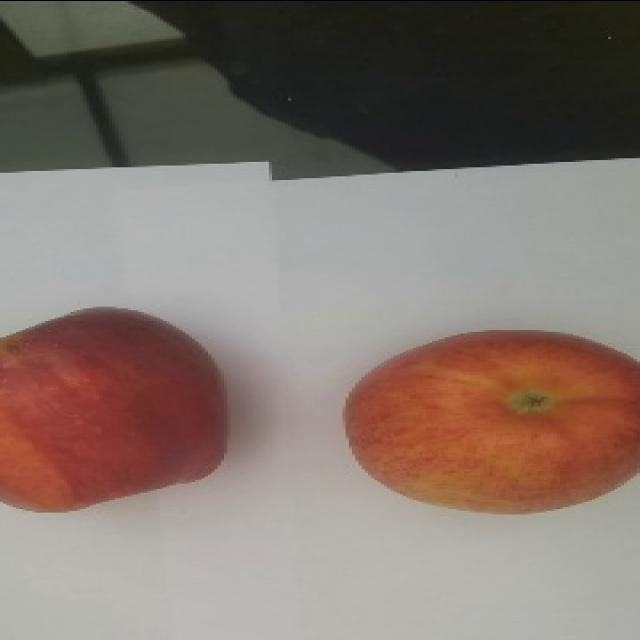Apple: (342, 328, 639, 514), (0, 305, 228, 512)
